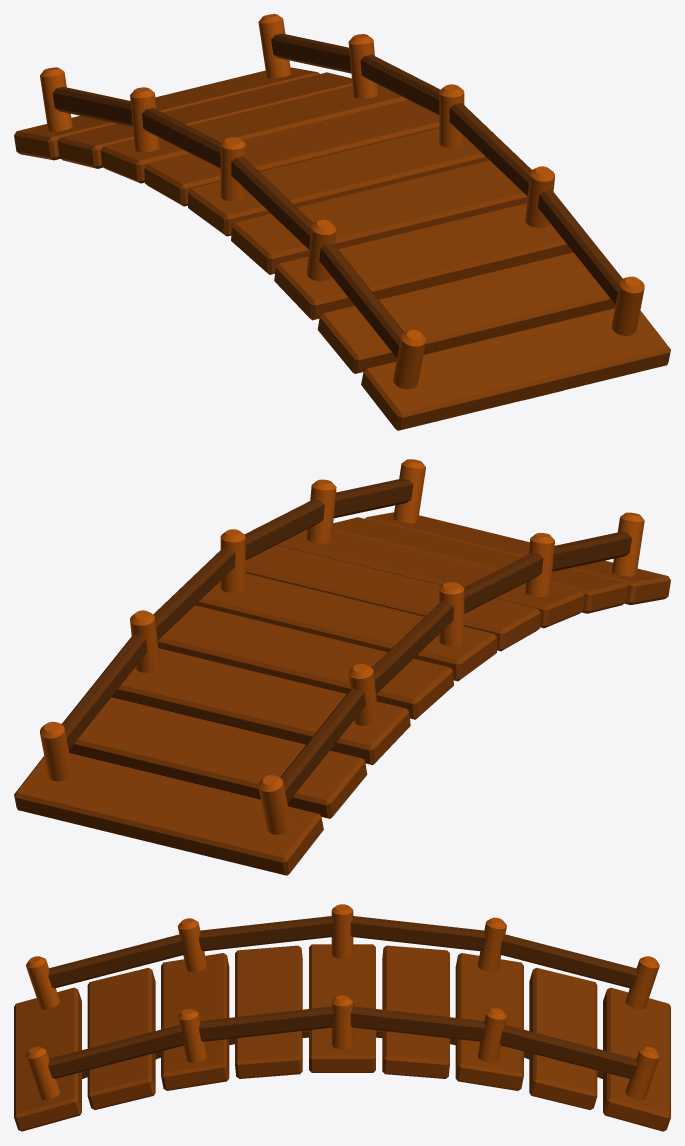
Rendered from Bridge.fbx.
3 renders of one model, top to bottom at view 1: azimuth 30°, elevation 25°; view 2: azimuth 150°, elevation 25°; view 3: azimuth 270°, elevation 25°, orthographic. The views are drawn at different scales.
Parts seen in each view (by area): view 1: Bridge; view 2: Bridge; view 3: Bridge.
Part boxes in pixels (x1,y1,x2,y2): Bridge: (14,14,670,430); Bridge: (14,459,670,875); Bridge: (14,904,670,1131).
Size of the model in its own units: 2 by 1.02 by 4.91.
